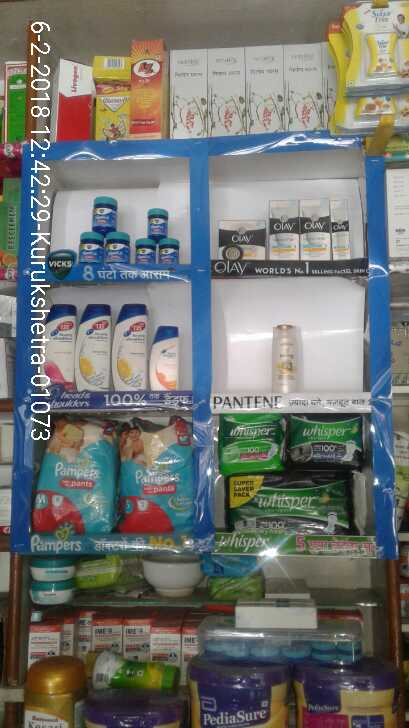beauty: (111, 299, 151, 392), (77, 301, 114, 393), (41, 297, 76, 394), (149, 317, 183, 396), (271, 324, 306, 391)
pharmacy: (30, 421, 115, 544), (115, 420, 199, 536), (228, 469, 353, 538), (286, 411, 369, 466), (220, 410, 281, 470), (91, 191, 120, 229), (78, 229, 109, 259), (102, 230, 128, 263), (156, 237, 183, 265), (132, 236, 155, 268), (142, 206, 167, 234)
